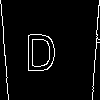D: (24, 25, 56, 71)
